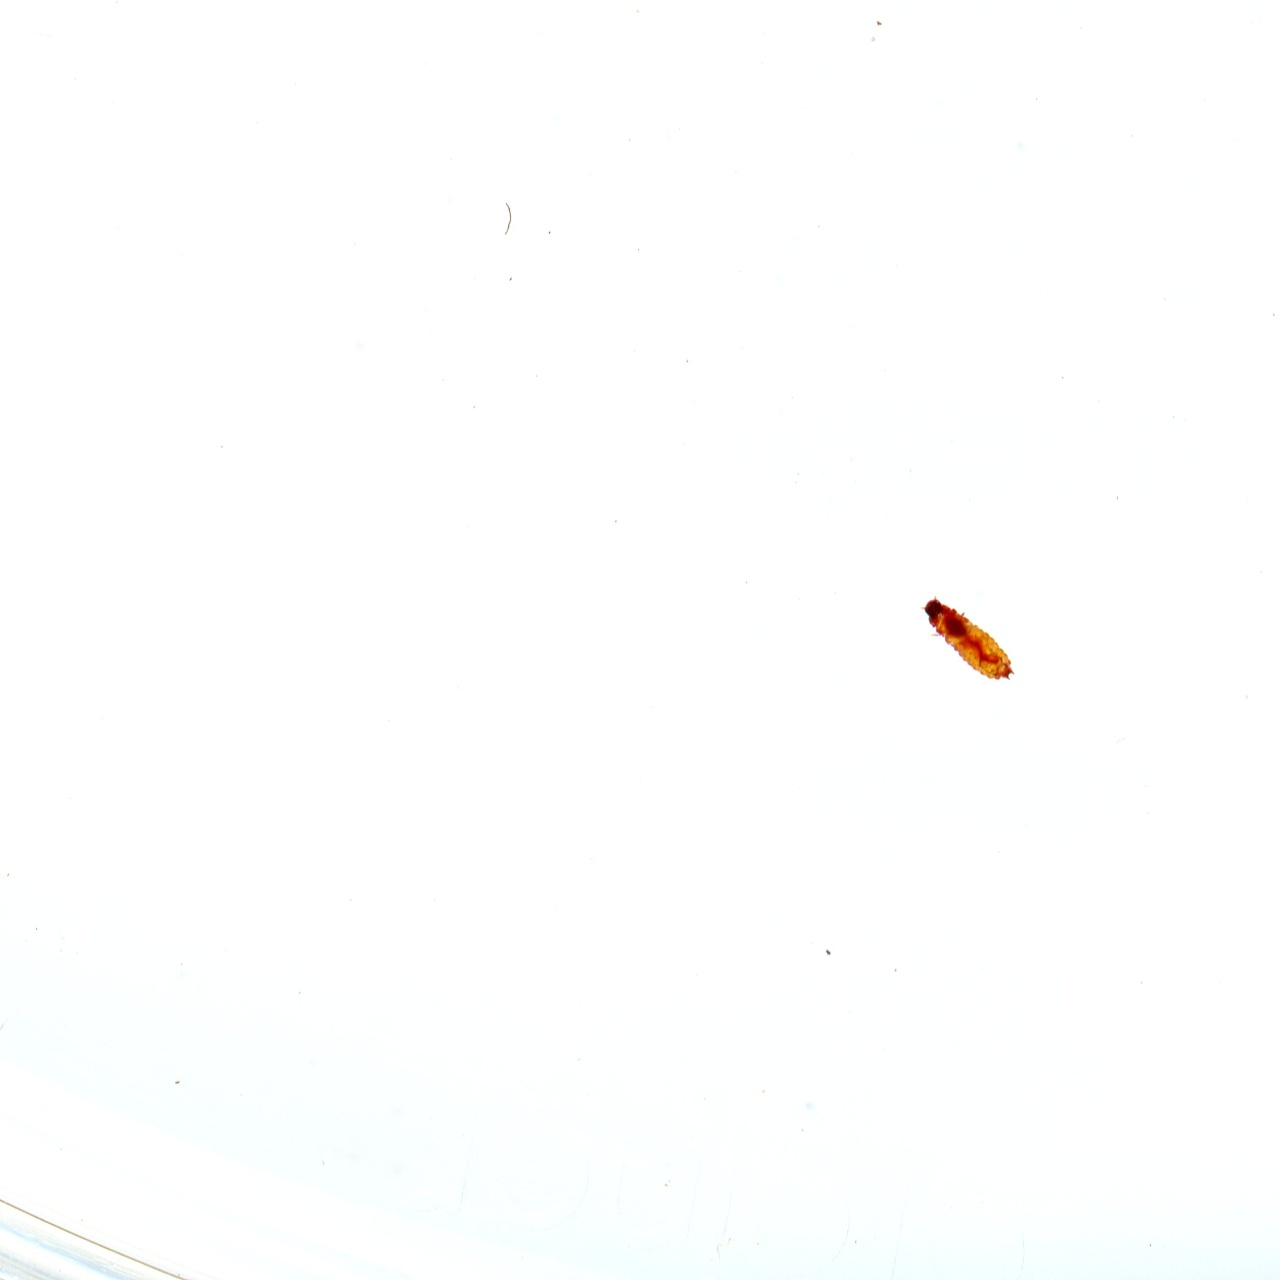arthropod: (908, 578, 1026, 703)
